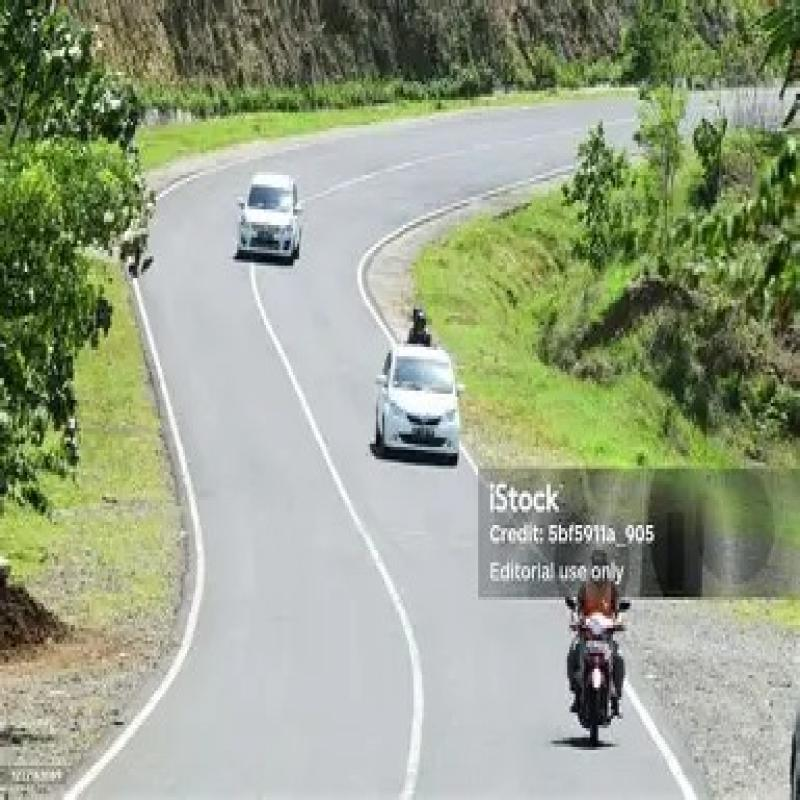license plate on a car: (409, 424, 438, 445), (254, 231, 276, 245)
